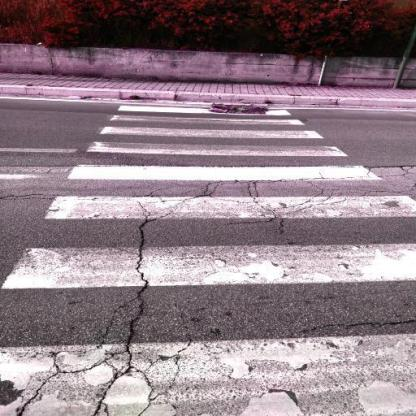crosswalk: (0, 194, 416, 301), (65, 140, 390, 184), (107, 104, 310, 128)
